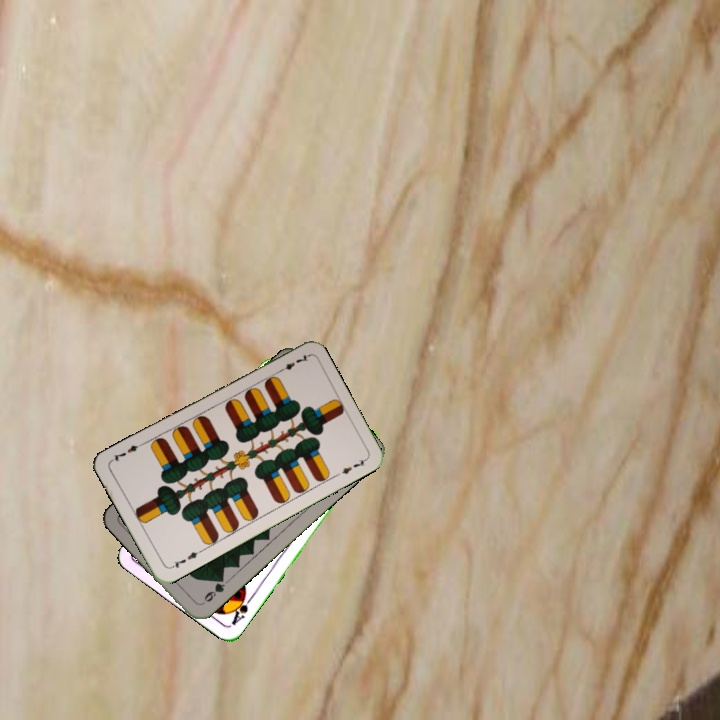E7: (273, 350, 311, 376), (166, 546, 204, 571)
G9: (197, 573, 228, 608)
SA: (227, 589, 255, 628)
